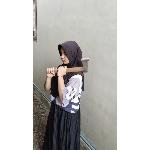Kapak: (45, 56, 93, 76)
